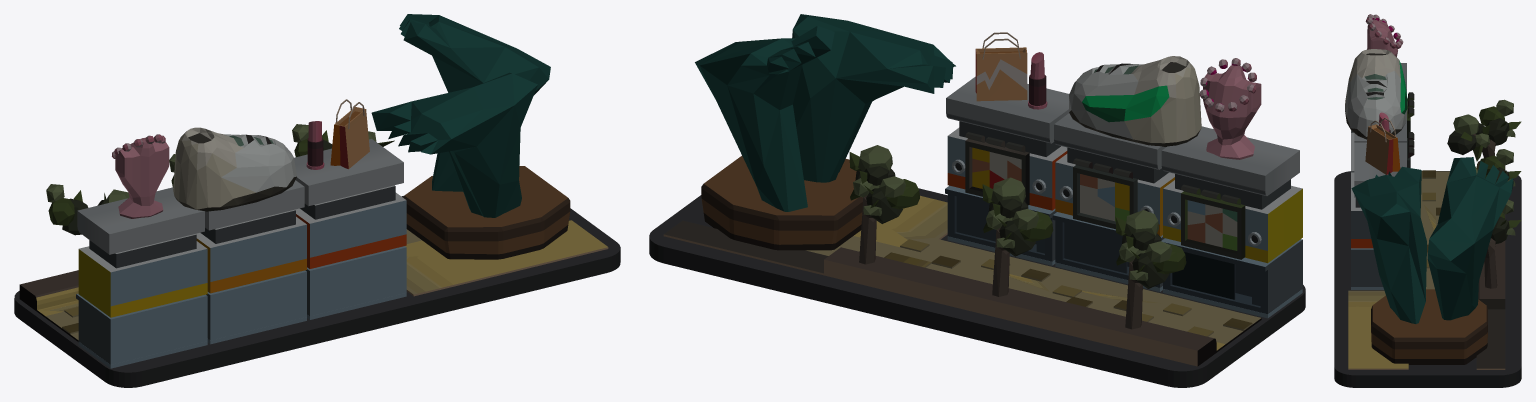
3 views of the same model, side by side, from view 1: azimuth 30°, elevation 25°; view 2: azimuth 150°, elevation 25°; view 3: azimuth 270°, elevation 25° (orthographic). The views are drawn at different scales.
Visible parts, largest first — view 1: Plane.021; view 2: Plane.021; view 3: Plane.021.
Boxes of the visible parts, box(x1,y1,x2,y2) form: Plane.021: box(14, 14, 620, 387); Plane.021: box(649, 14, 1305, 387); Plane.021: box(1334, 14, 1521, 387).
Size of the model in its own units: 3 by 1.28 by 1.16.
1 material, 1 textured.
